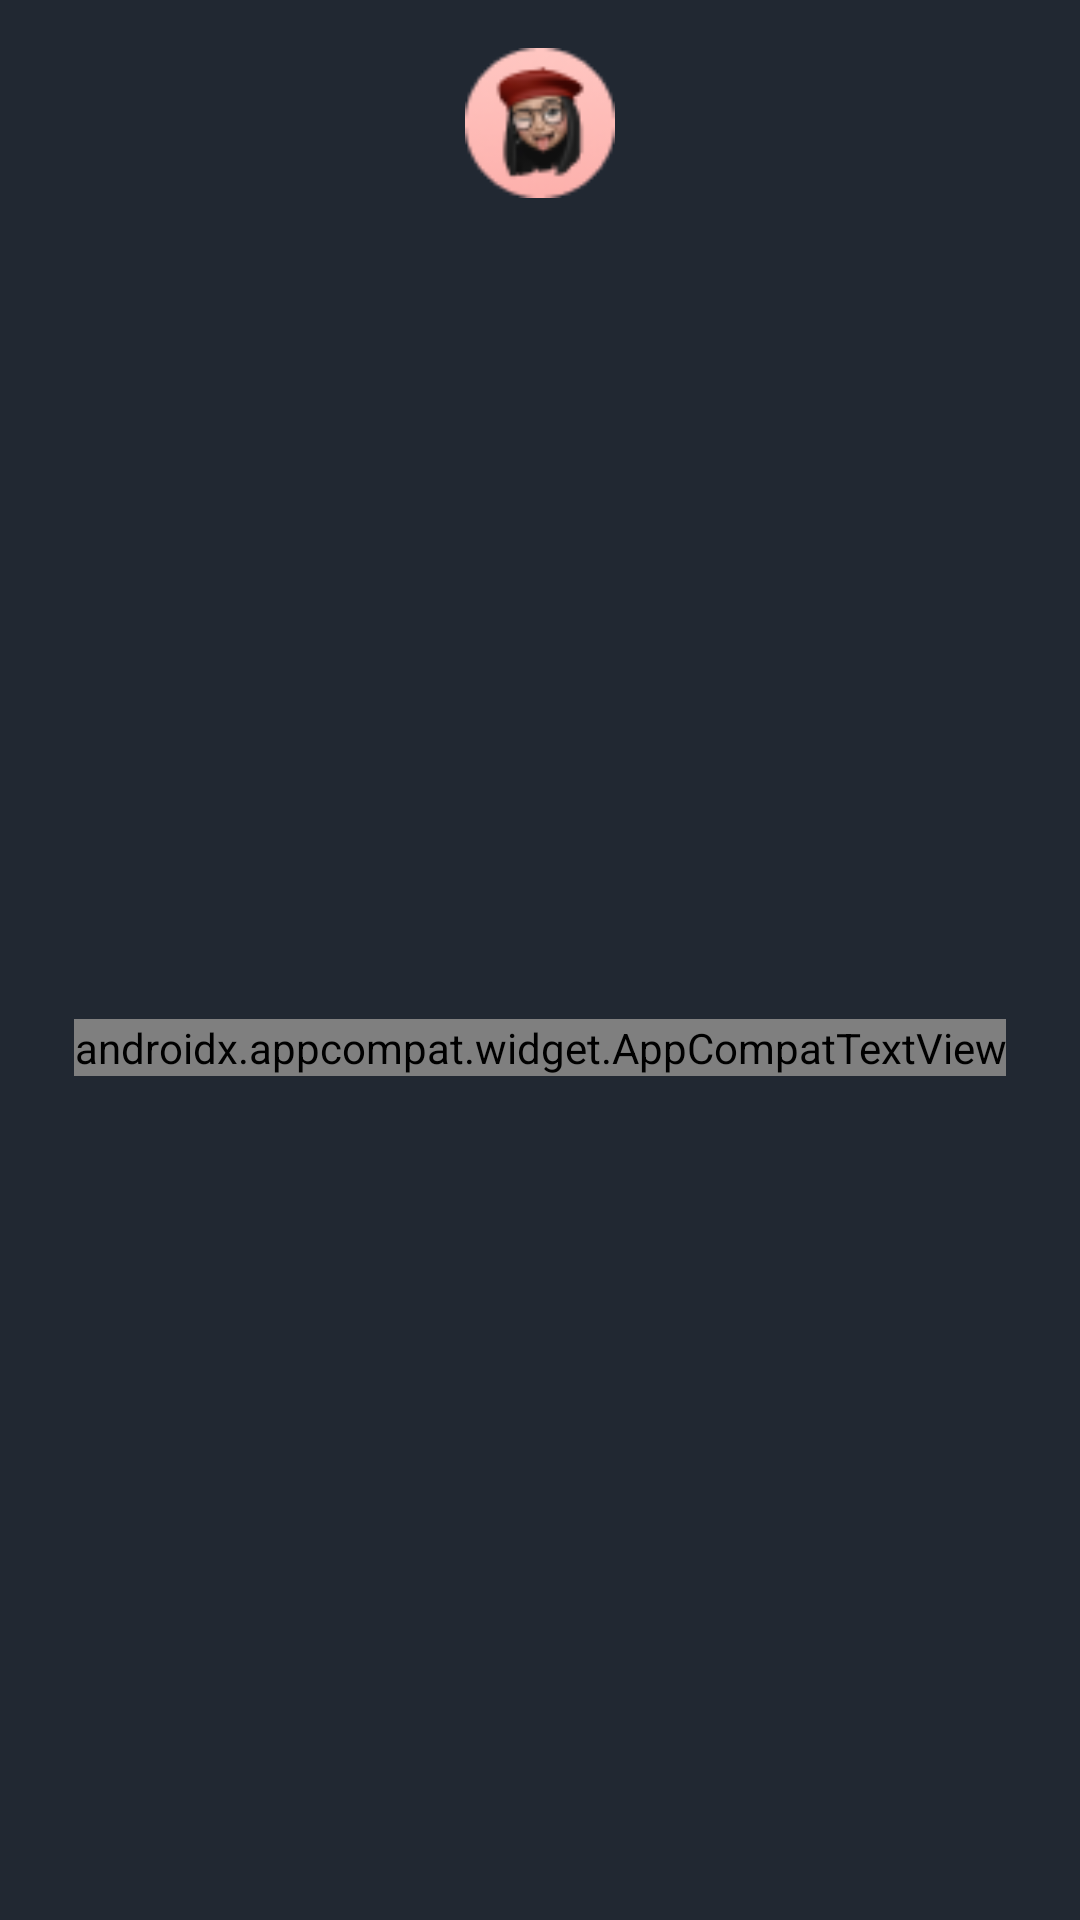

Named icons in this screenshot (1080w x 1920h) and their bounding boxes, {"left": x1, "top": y1, "right": x2, "bottom": y2}:
person: {"left": 465, "top": 48, "right": 615, "bottom": 198}
